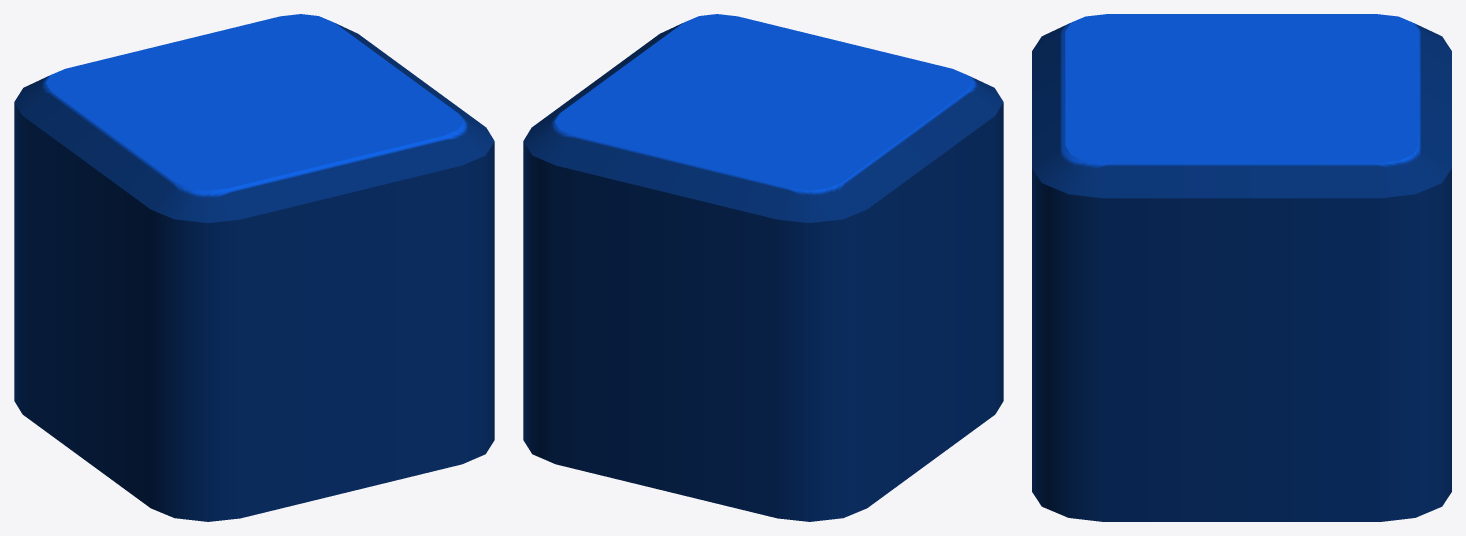
Rendered from cube_BlueDark.fbx.
3 renders of one model, left to right at view 1: azimuth 30°, elevation 25°; view 2: azimuth 150°, elevation 25°; view 3: azimuth 270°, elevation 25°, orthographic. The views are drawn at different scales.
Visible parts, largest first — view 1: cube_BlueDark; view 2: cube_BlueDark; view 3: cube_BlueDark.
Part boxes in pixels (x1=…): cube_BlueDark: x1=14, y1=14, x2=494, y2=521; cube_BlueDark: x1=523, y1=14, x2=1003, y2=521; cube_BlueDark: x1=1032, y1=14, x2=1451, y2=521.
Bounding box in the file's own units: 100 × 90.58 × 100.
